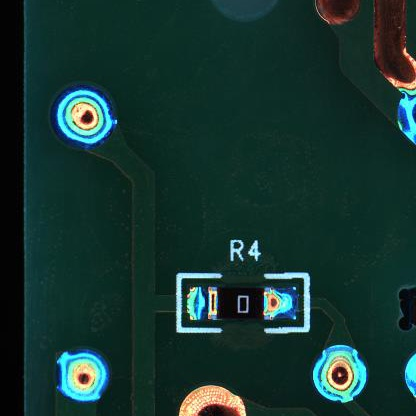spot: (48, 84, 116, 150), (313, 344, 367, 403), (54, 349, 111, 401)
